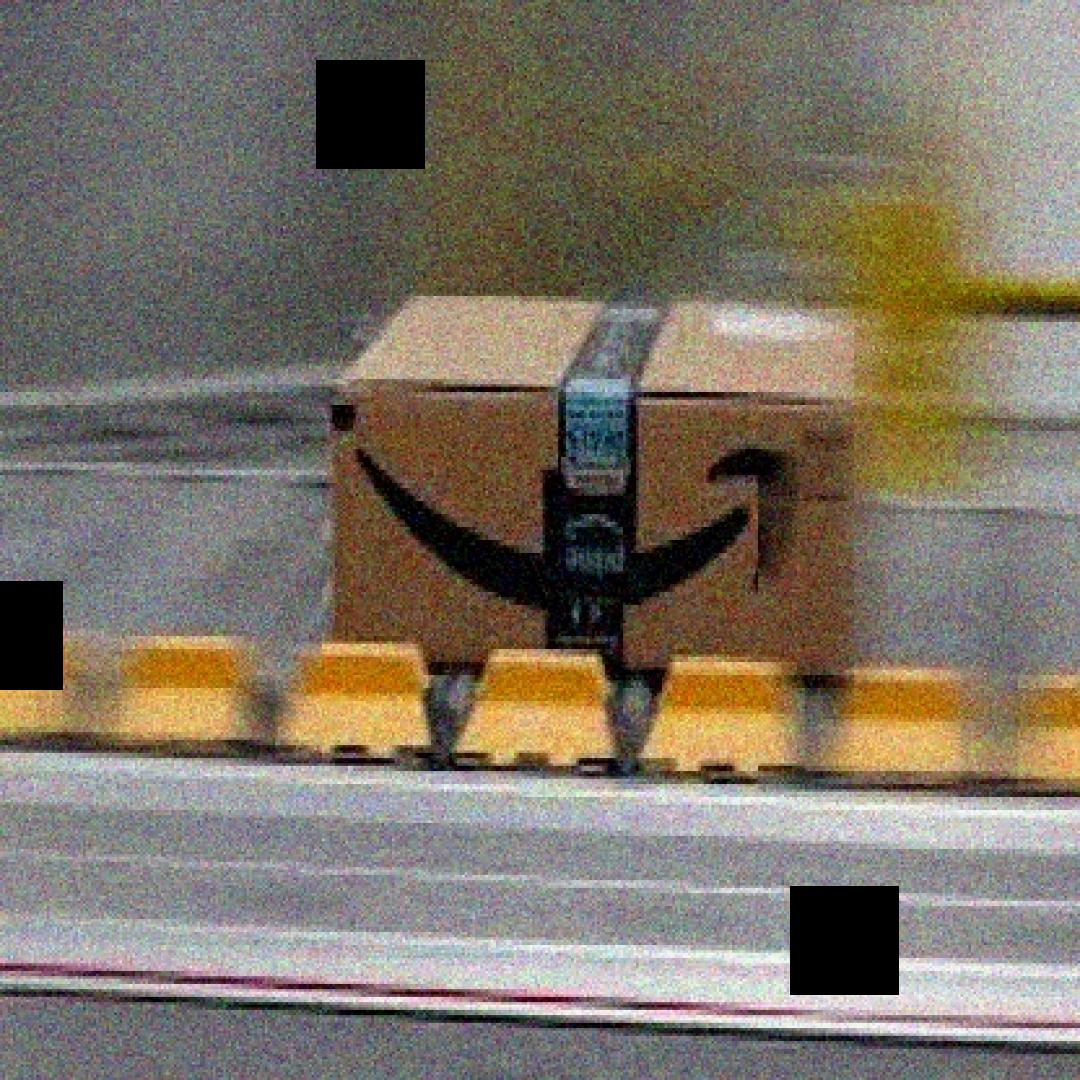package: (327, 286, 872, 678)
